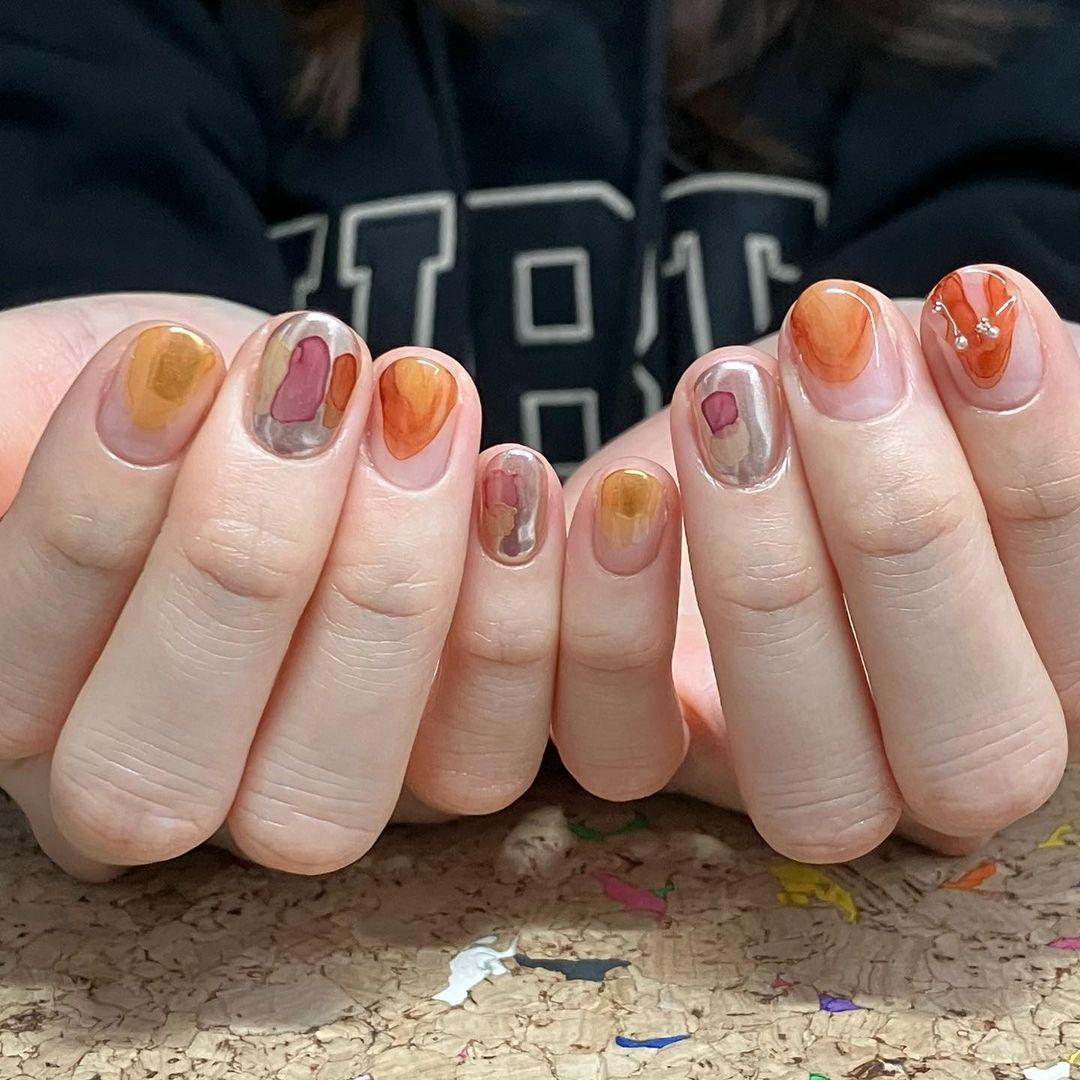nail: (919, 262, 1046, 413), (94, 321, 225, 467), (782, 277, 908, 421), (689, 355, 789, 490), (590, 465, 670, 575), (476, 443, 548, 565), (377, 353, 458, 460), (268, 333, 330, 423)
